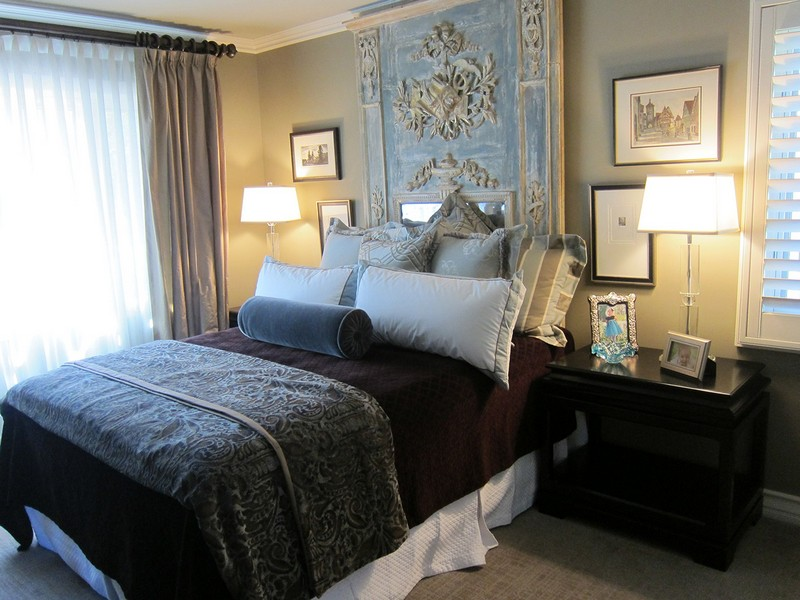bed: (16, 225, 582, 586)
lamp: (636, 166, 743, 370), (238, 177, 302, 273)
stool: (532, 338, 763, 564)
